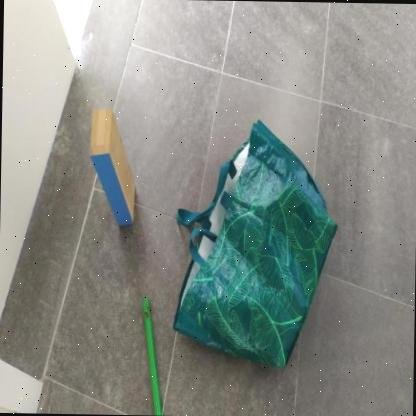bag: (161, 106, 342, 379)
